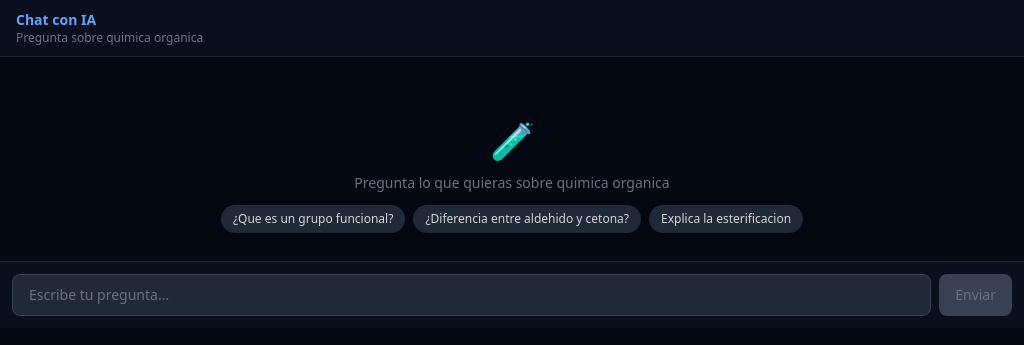
Chat › handles error response from server
The width and height of the screenshot is (1024, 345).
Type "test" into the field with placeholder "Escribe tu pregunta..." at (472, 295), box x1=12 y1=274 x2=931 y2=316
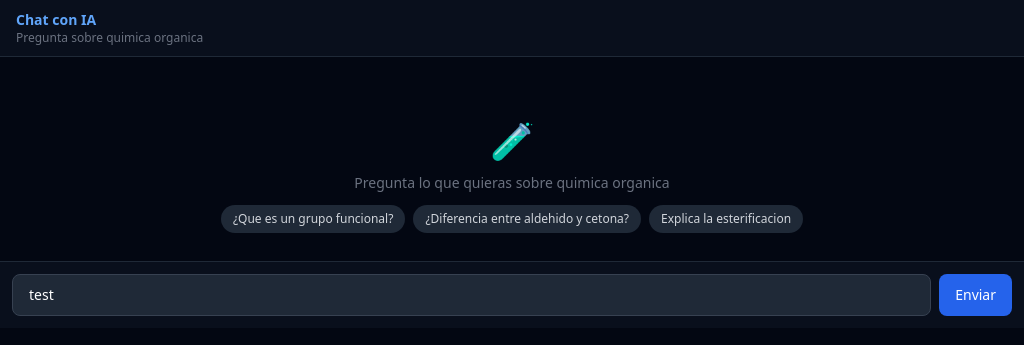
Submit the form with placeholder "Escribe tu pregunta...", box x1=0 y1=261 x2=1023 y2=328
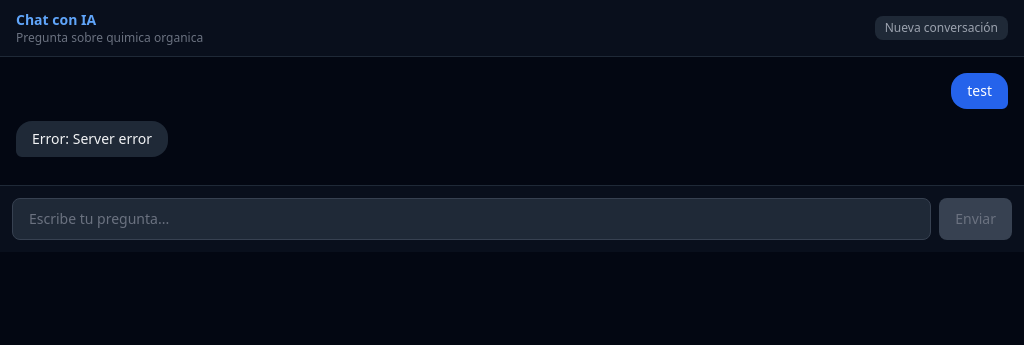
Result: the text "Error: Server error" is shown at x1=32 y1=129 x2=152 y2=149
